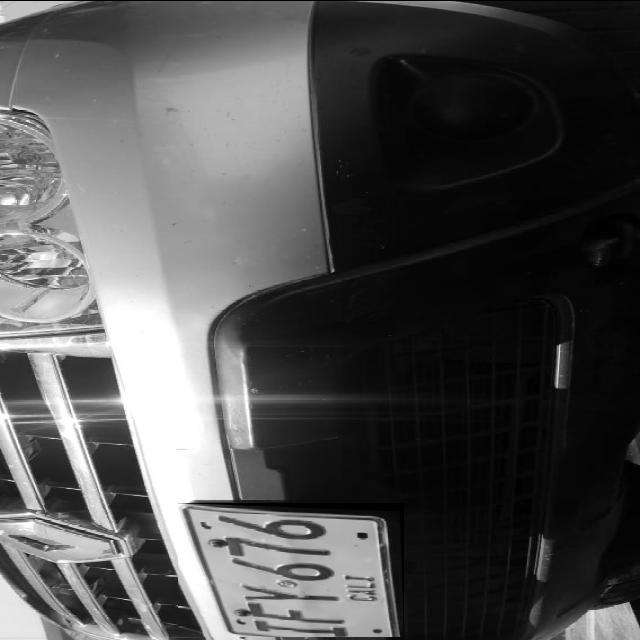plate: (178, 502, 403, 636)
